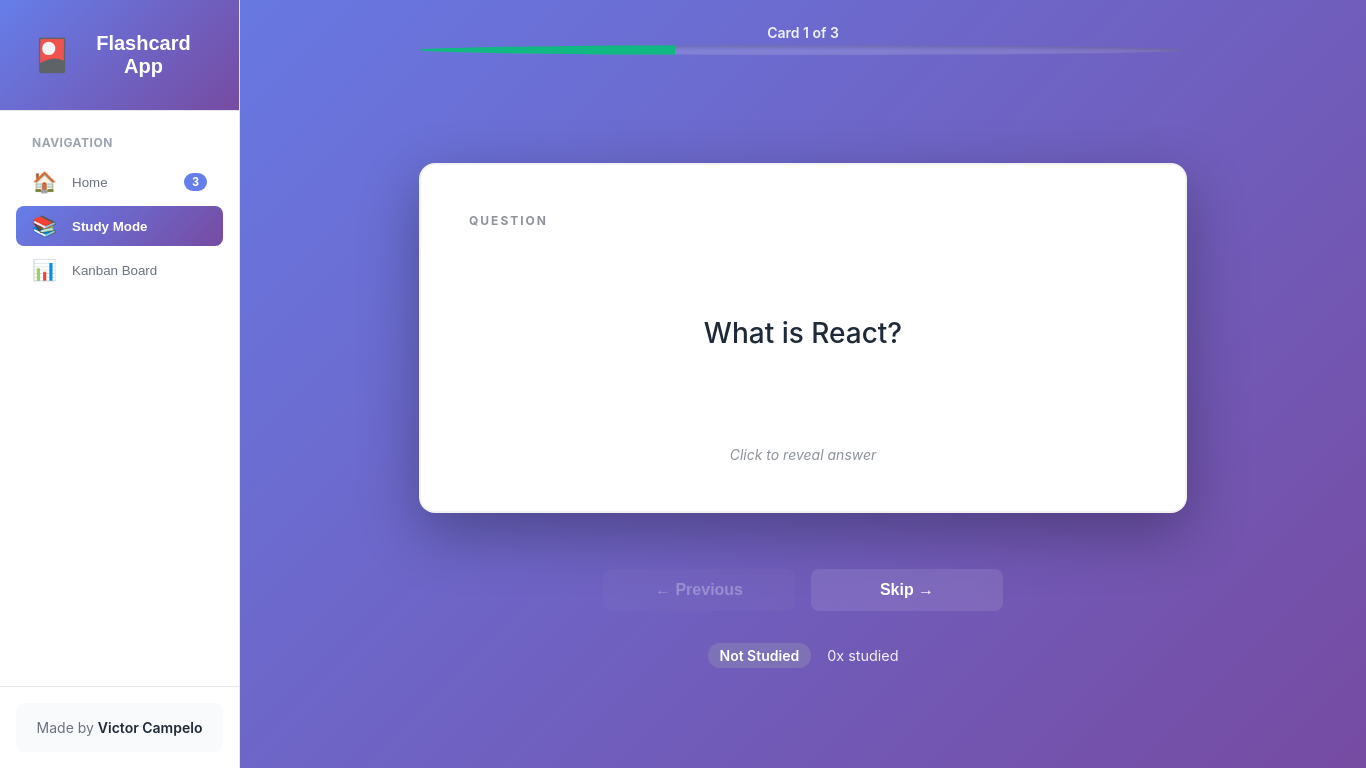
Test: Study › Navigation › navigates to next card when skip is clicked
The image size is (1366, 768).
Expected: the text "What is React?" is shown, top-left (704, 316), bottom-right (902, 350)
Click the button with test id "btn-skip" at (907, 590), box top-left (811, 569), bottom-right (1003, 611)
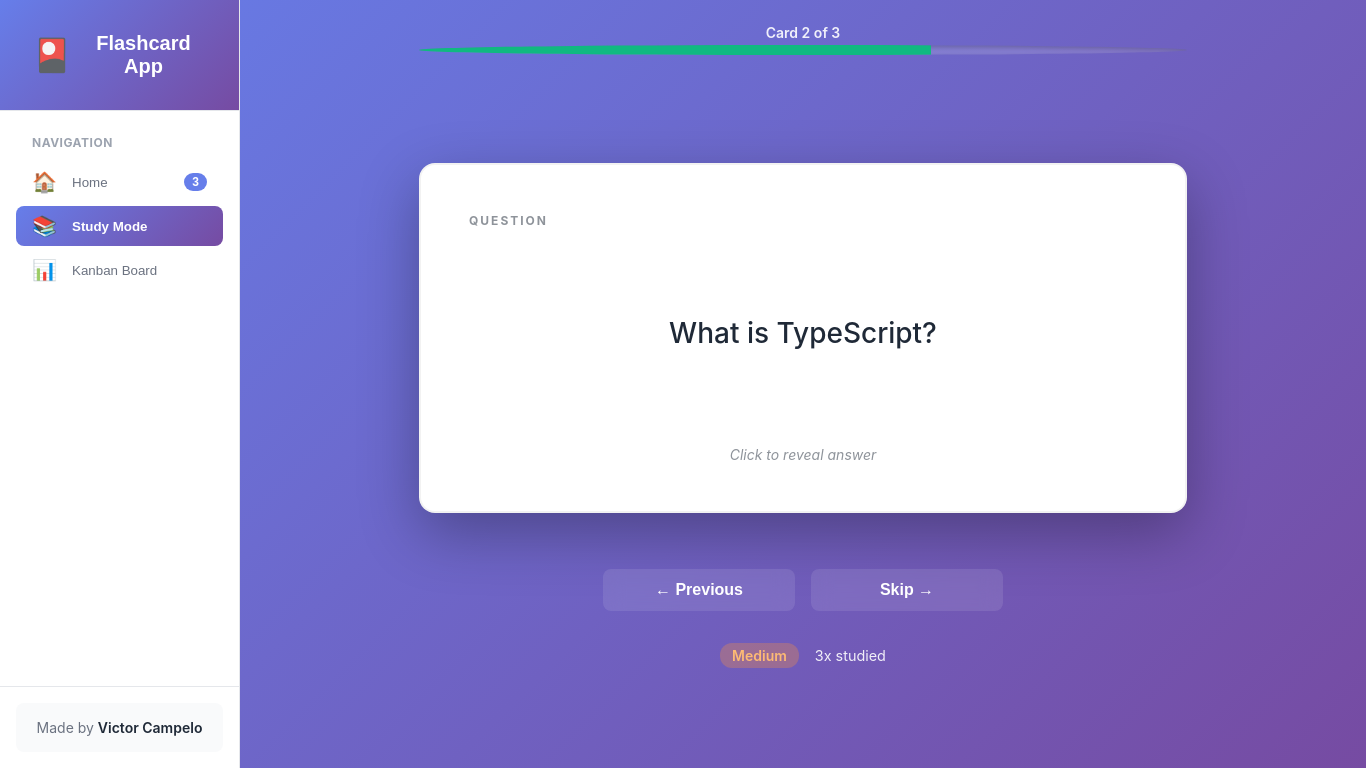
Now the text "What is TypeScript?" is shown, box top-left (669, 316), bottom-right (937, 350)
Now the text "Card 2 of 3" is shown, box top-left (766, 24), bottom-right (840, 41)
